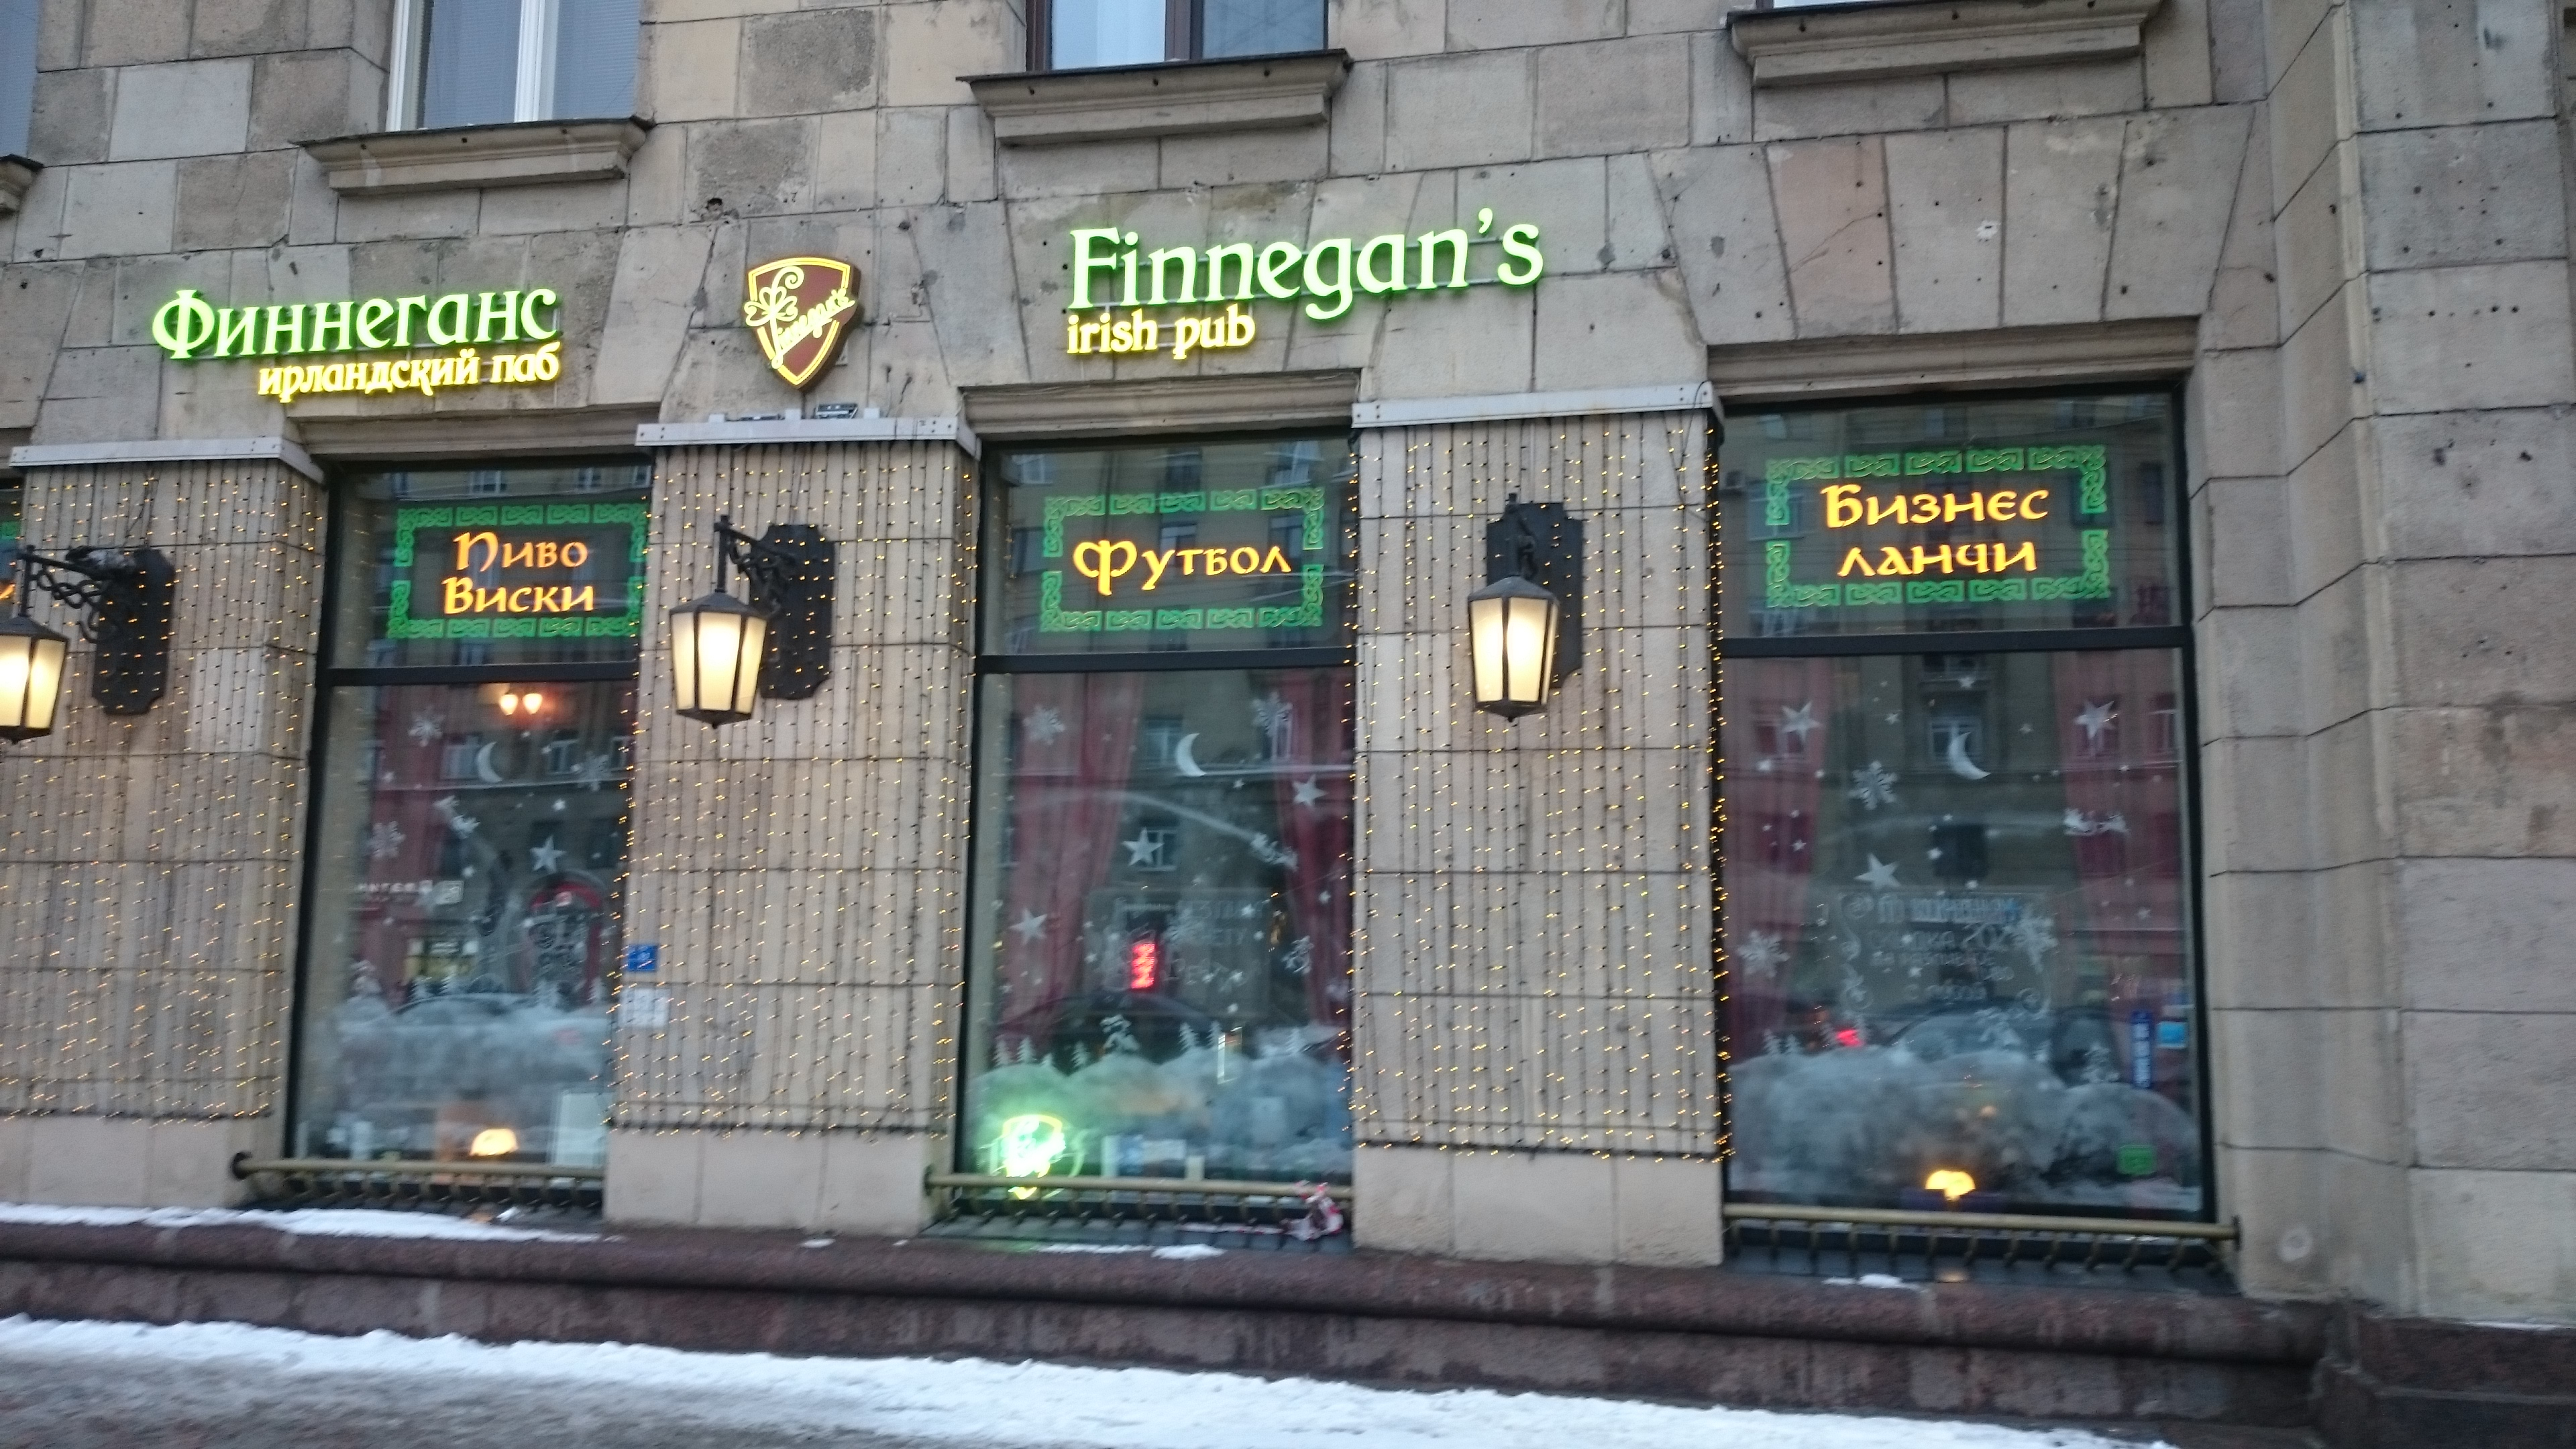signboard: (1060, 205, 1550, 363), (134, 283, 566, 403), (731, 255, 869, 395)
win_ad: (1750, 453, 2120, 600), (1026, 490, 1336, 632), (382, 497, 644, 642)
window: (1721, 377, 2192, 1210), (948, 414, 1359, 1223), (278, 446, 674, 1177)
